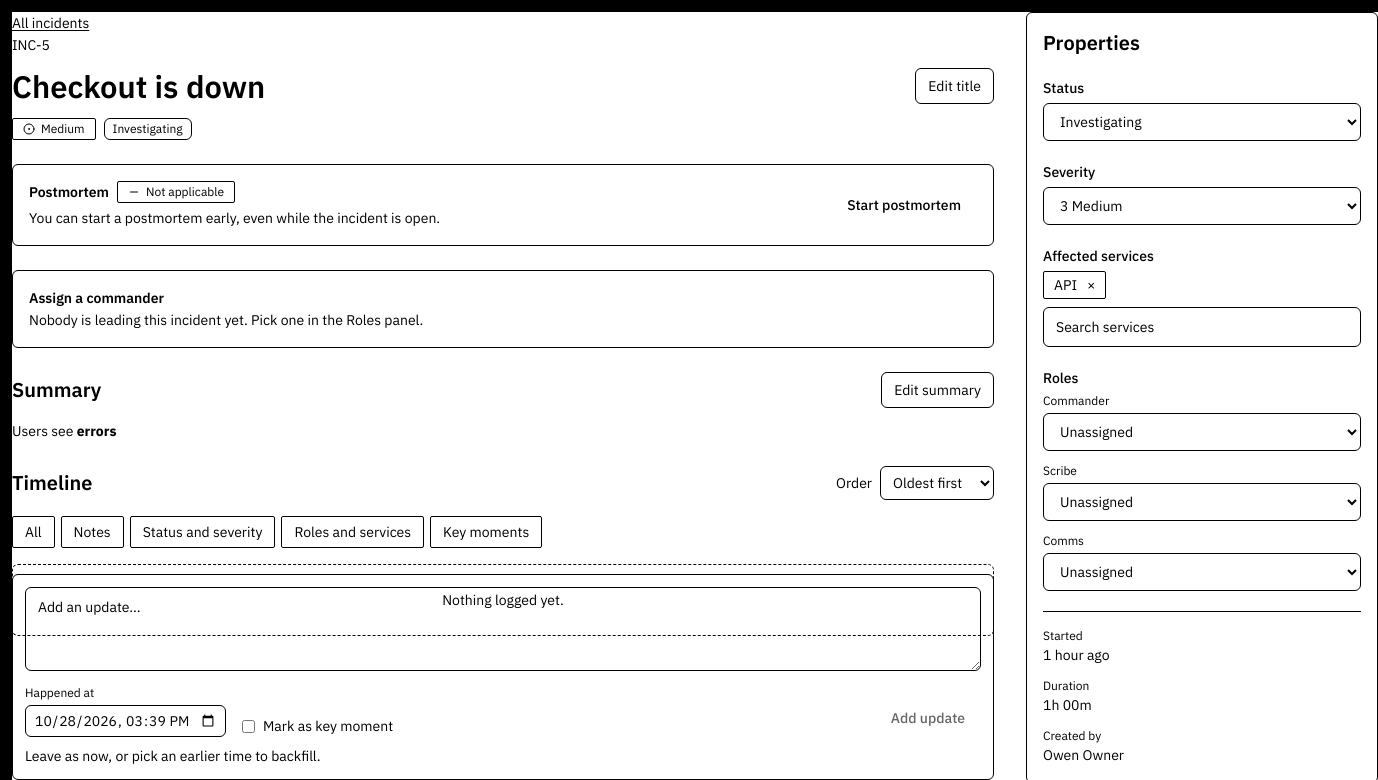
Test: title › puts the old title back and says so if the save fails
This screenshot has width=1378, height=780.
Click the button "Edit title": point(955, 86) 915,68 -> 994,104
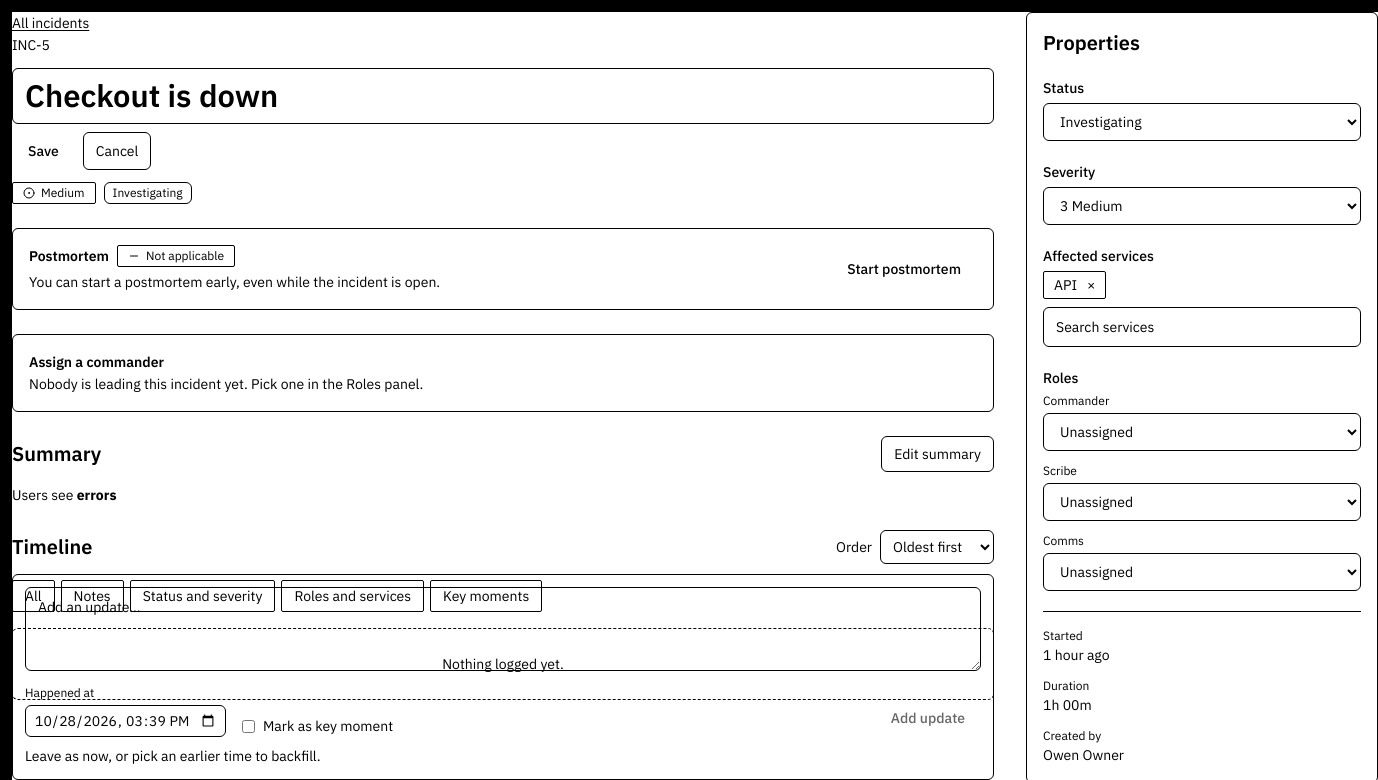
Replace the text in the field named "Title" with "Doomed edit": point(503, 96) 12,68 -> 994,124
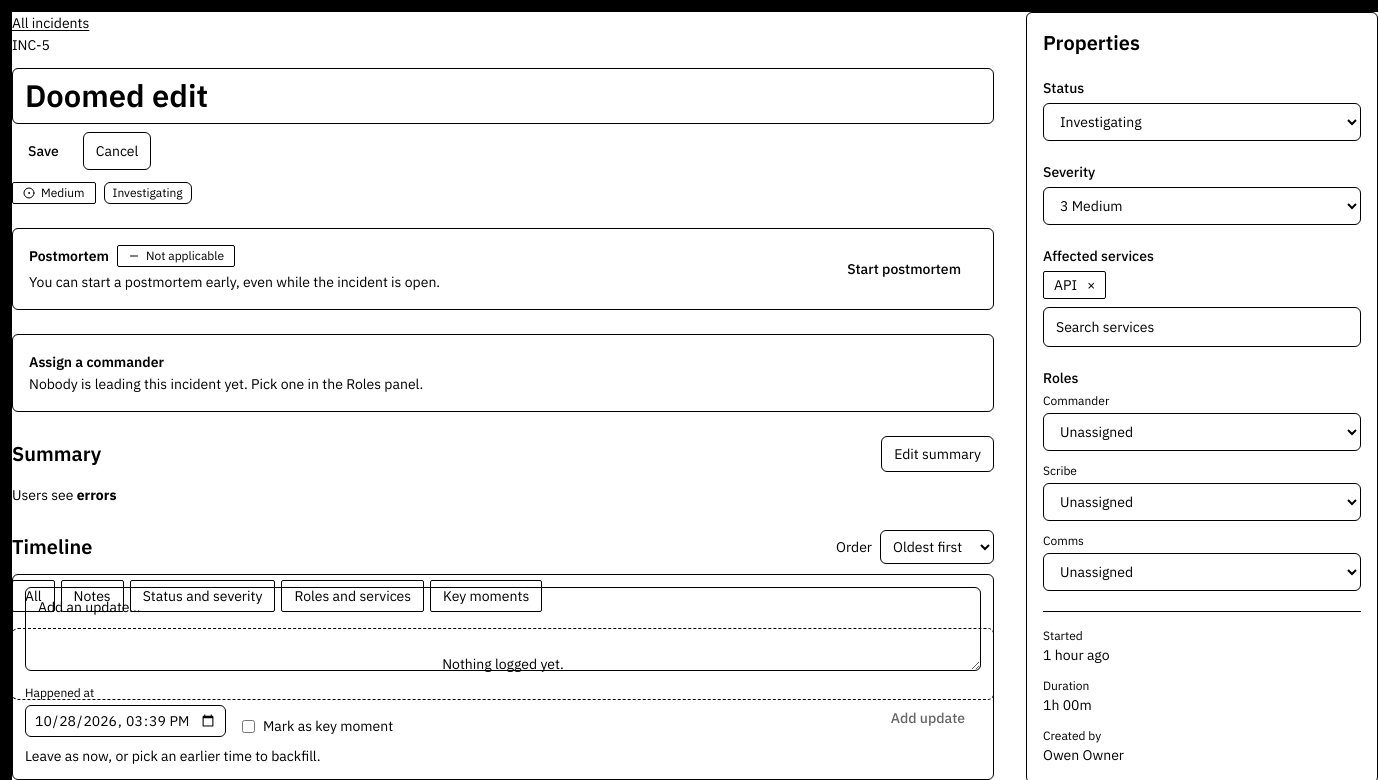
Click the button "Save": point(43, 151) 12,132 -> 75,170
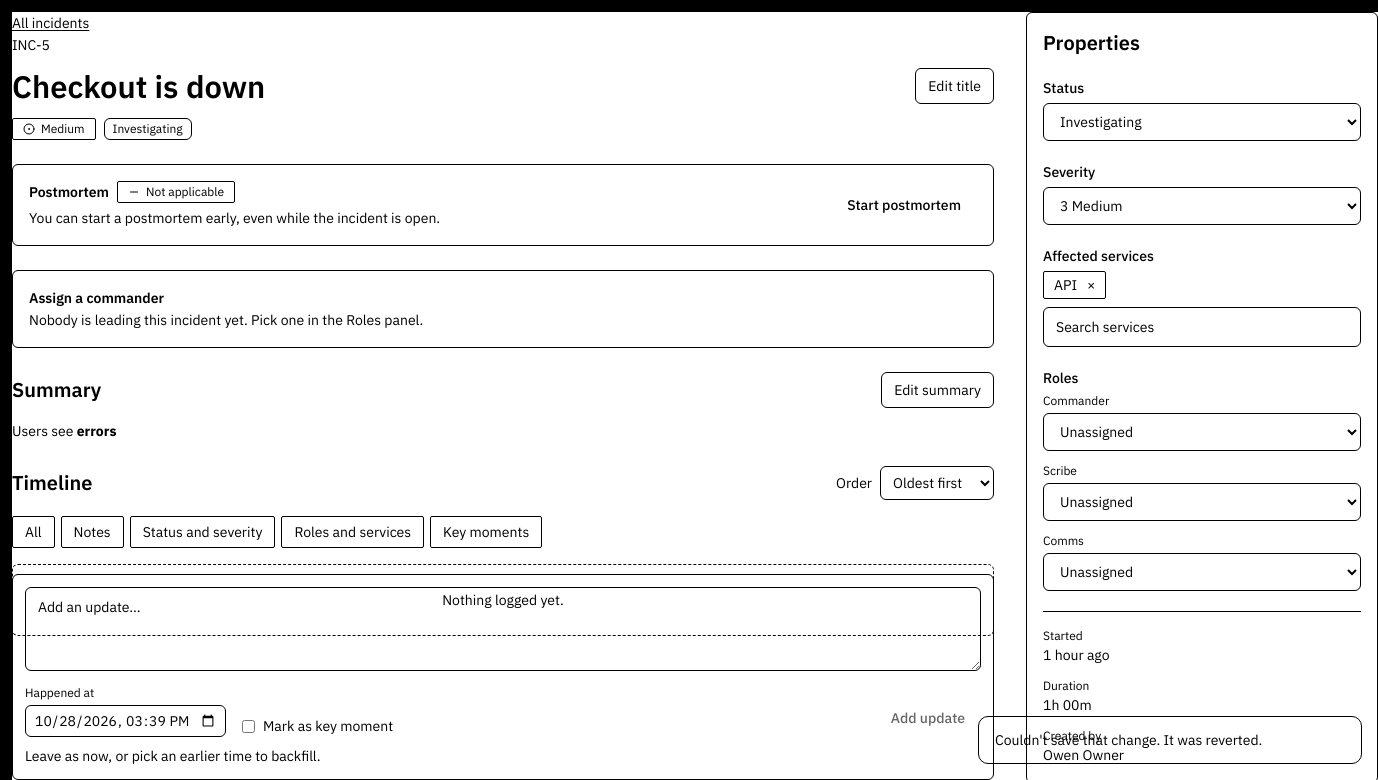
Expected: the heading with test id "incident-title" reads "Checkout is down", 12,66 -> 265,107
Expected: the message reads "Couldn't save that change. It was reverted.", 995,731 -> 1262,749
